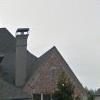Chimney: (11, 22, 37, 88)
